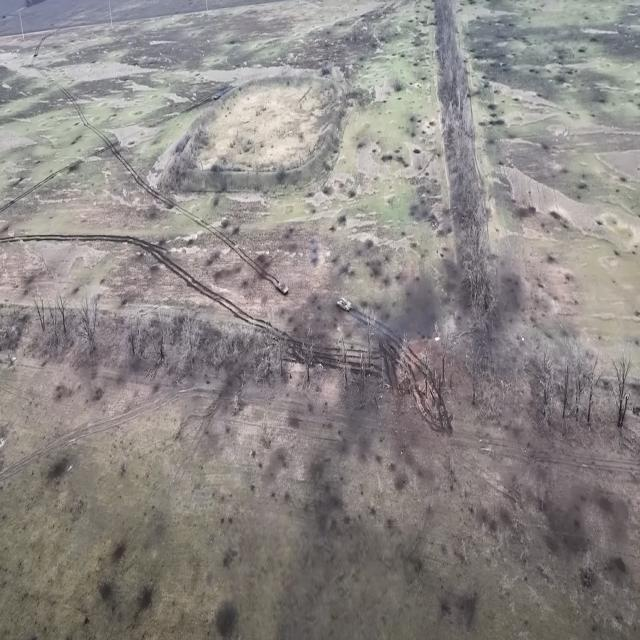AIFV: (276, 279, 291, 298)
MBT: (337, 295, 355, 315), (215, 91, 223, 103)
